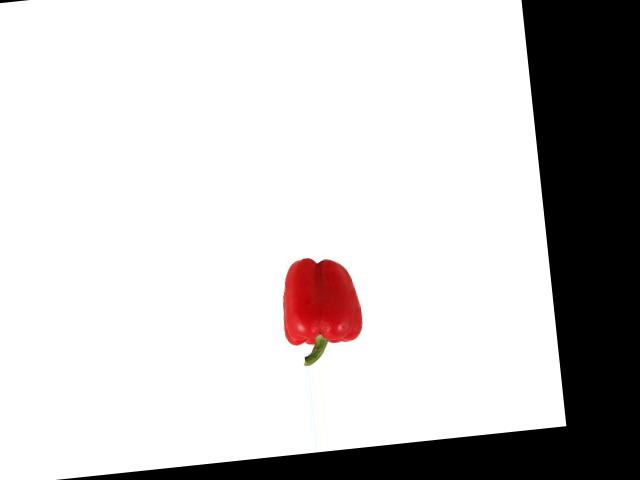bell_pepper: (273, 251, 377, 367)
